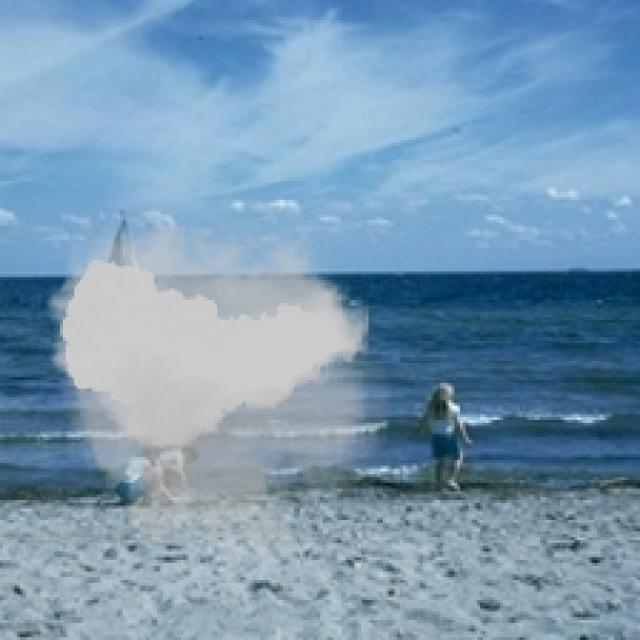smoke: (37, 194, 392, 589)
